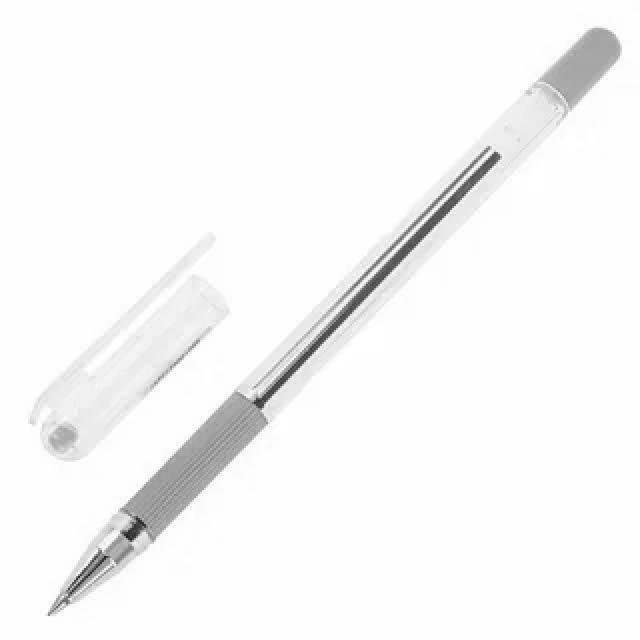pencil: (32, 16, 624, 624)
